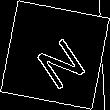N_NW: (24, 22, 86, 88)
